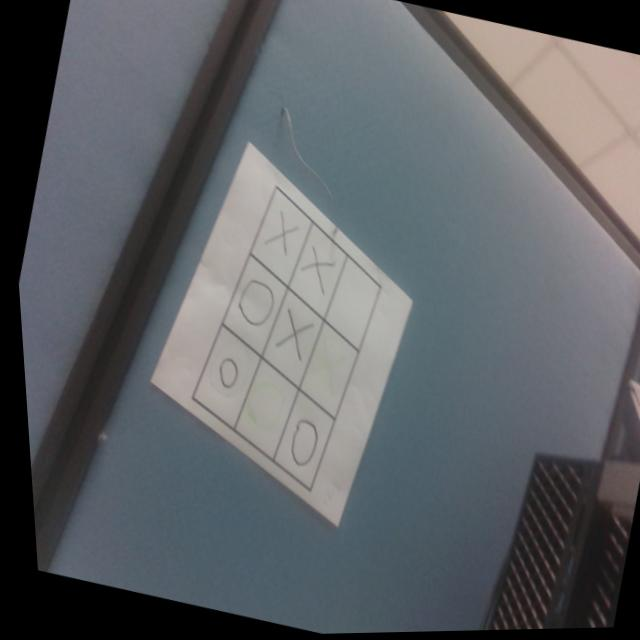null: (310, 252, 385, 355)
o: (227, 274, 276, 331), (237, 379, 283, 430), (278, 416, 320, 471), (207, 353, 239, 394)
table: (153, 176, 405, 511)
x: (254, 208, 300, 261), (304, 338, 345, 396), (264, 306, 308, 360), (294, 249, 334, 295)
